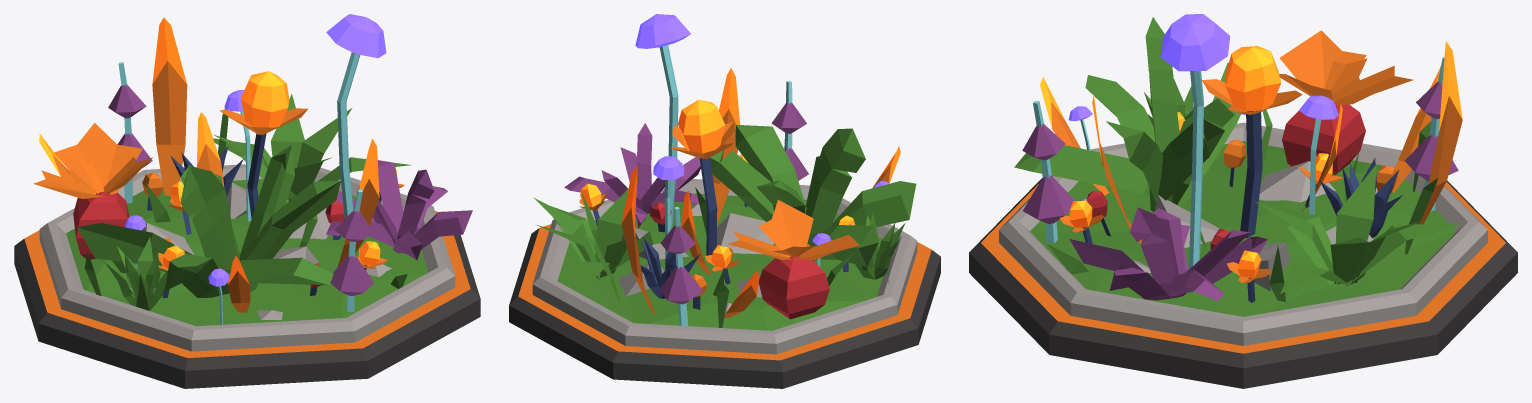
The model's file is scifi_scifi-pot-low-plants.fbx.
3 views of the same model, side by side, from view 1: azimuth 30°, elevation 25°; view 2: azimuth 150°, elevation 25°; view 3: azimuth 270°, elevation 25° (orthographic). The views are drawn at different scales.
Parts seen in each view (by area): view 1: scifi_scifi_pot_low_plants; view 2: scifi_scifi_pot_low_plants; view 3: scifi_scifi_pot_low_plants.
Boxes of the visible parts, left/top/right/bottom form: scifi_scifi_pot_low_plants: left=14, top=14, right=480, bottom=388; scifi_scifi_pot_low_plants: left=509, top=14, right=940, bottom=388; scifi_scifi_pot_low_plants: left=969, top=14, right=1517, bottom=388.
Size of the model in its own units: 200 by 125 by 200.
